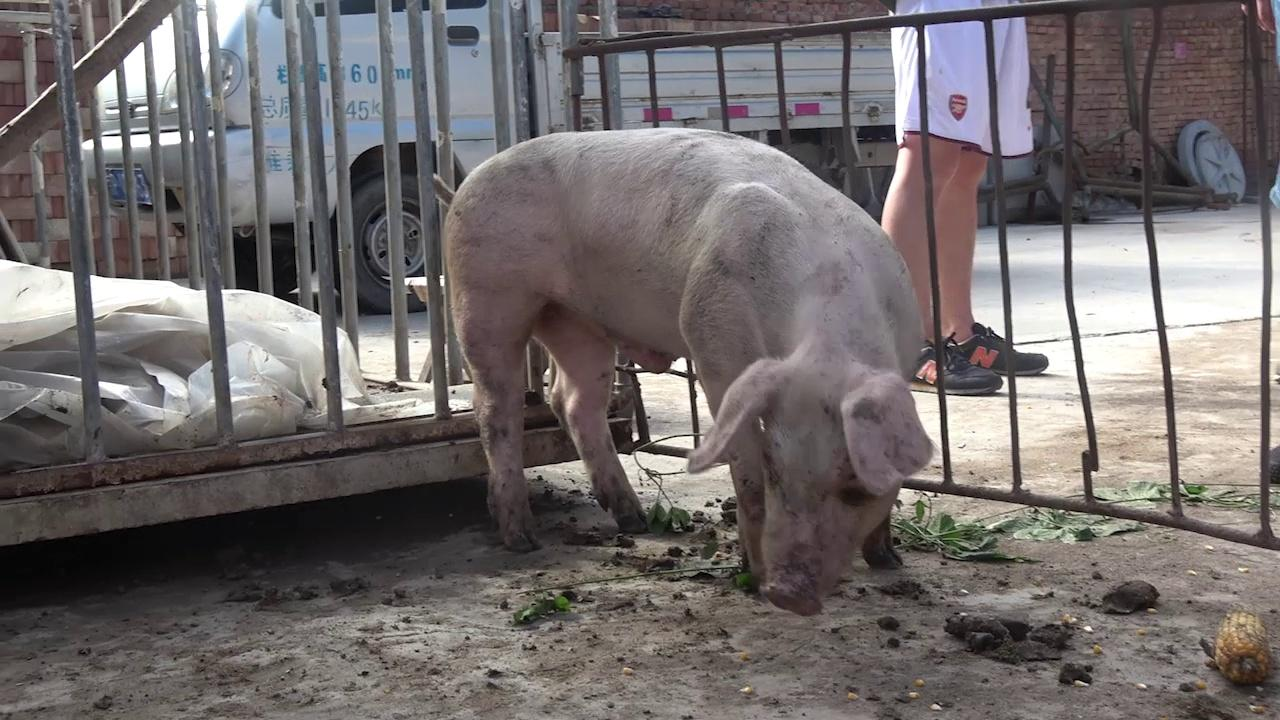Face: (679, 353, 939, 622)
